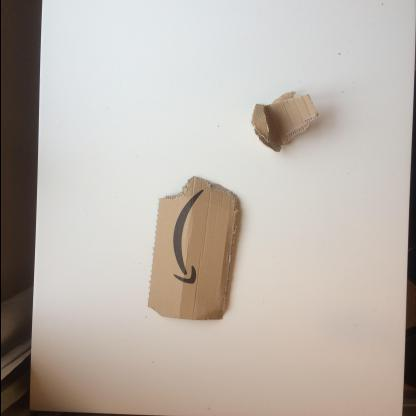karton: (147, 178, 246, 324), (249, 93, 321, 155)
